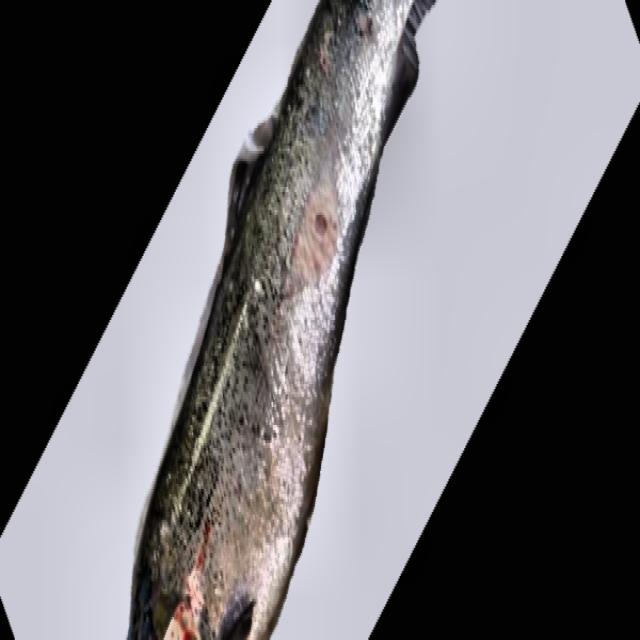mild_red: (127, 0, 434, 637)
